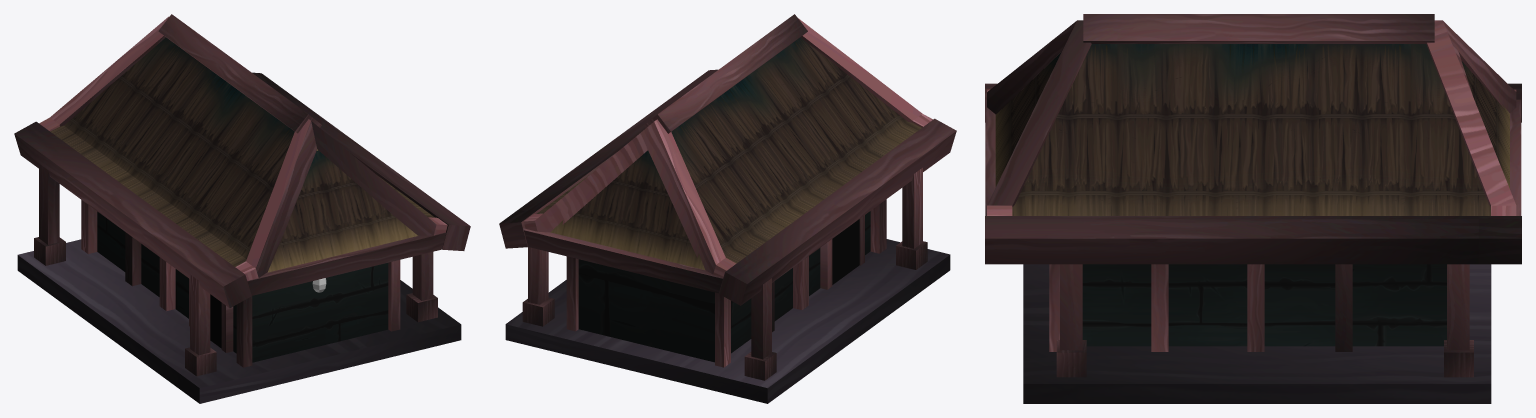
The model's file is Rumah 4.fbx.
3 views of the same model, side by side, from view 1: azimuth 30°, elevation 25°; view 2: azimuth 150°, elevation 25°; view 3: azimuth 270°, elevation 25° (orthographic). The views are drawn at different scales.
Visible parts, largest first — view 1: Plane, Cube.018, Plane.001, Cube.017, Plane.003, Cube.023, Cube.011, Cube.024, Cube.010, Cube.027, Cube.021, Cube.019 (+8 smaller); view 2: Plane, Cube.018, Plane.001, Cube.017, Plane.003, Cube.003, Cube.011, Cube.025, Cube.010, Cube.027, Cube.019, Cube.021 (+7 smaller); view 3: Plane, Cube.018, Cube.010, Plane.001, Plane.003, Cube.011, Cube.023, Cube.020, Cube.022, Cube.003, Cube.027, Cube.001 (+5 smaller).
Part boxes in pixels (x1,y1,x2,y2): Plane: (50, 37, 434, 266); Cube.018: (17, 239, 461, 403); Plane.001: (97, 211, 388, 362); Cube.017: (14, 121, 251, 307); Plane.003: (39, 16, 447, 280); Cube.023: (267, 149, 417, 272); Cube.011: (158, 14, 321, 133); Cube.024: (247, 232, 446, 295); Cube.010: (252, 72, 470, 250); Cube.027: (34, 237, 437, 376); Cube.021: (39, 164, 59, 244); Cube.019: (190, 274, 210, 355); Plane: (536, 37, 921, 263); Cube.018: (505, 239, 950, 403); Plane.001: (578, 211, 870, 362); Cube.017: (718, 118, 956, 305); Plane.003: (523, 18, 932, 276); Cube.003: (550, 150, 704, 269); Cube.011: (644, 14, 807, 133); Cube.025: (523, 229, 723, 293); Cube.010: (499, 69, 717, 248); Cube.027: (522, 241, 927, 380); Cube.019: (902, 167, 922, 248); Cube.021: (751, 278, 771, 359); Plane: (1012, 44, 1490, 215); Cube.018: (1023, 264, 1491, 403); Cube.010: (985, 216, 1521, 264); Plane.001: (1082, 264, 1446, 346); Plane.003: (987, 20, 1516, 215); Cube.011: (1083, 14, 1434, 43); Cube.023: (995, 52, 1060, 186); Cube.020: (1060, 264, 1082, 350); Cube.022: (1447, 264, 1469, 350); Cube.003: (1461, 61, 1509, 188); Cube.027: (1056, 340, 1473, 377); Cube.001: (1151, 264, 1168, 351).
Size of the model in its own units: 290 by 255 by 402.
